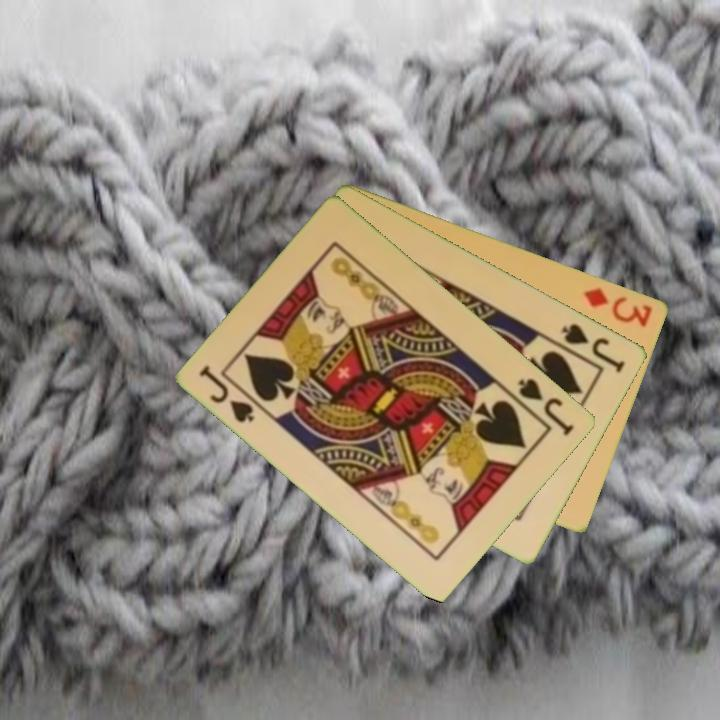3d: (580, 283, 656, 330)
Js: (196, 361, 267, 426), (514, 374, 578, 439), (558, 319, 629, 376)
